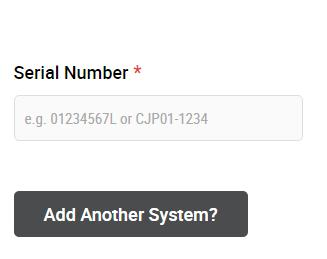button: (13, 189, 251, 239)
field: (12, 93, 306, 144)
field_with_label: (11, 64, 310, 145)
